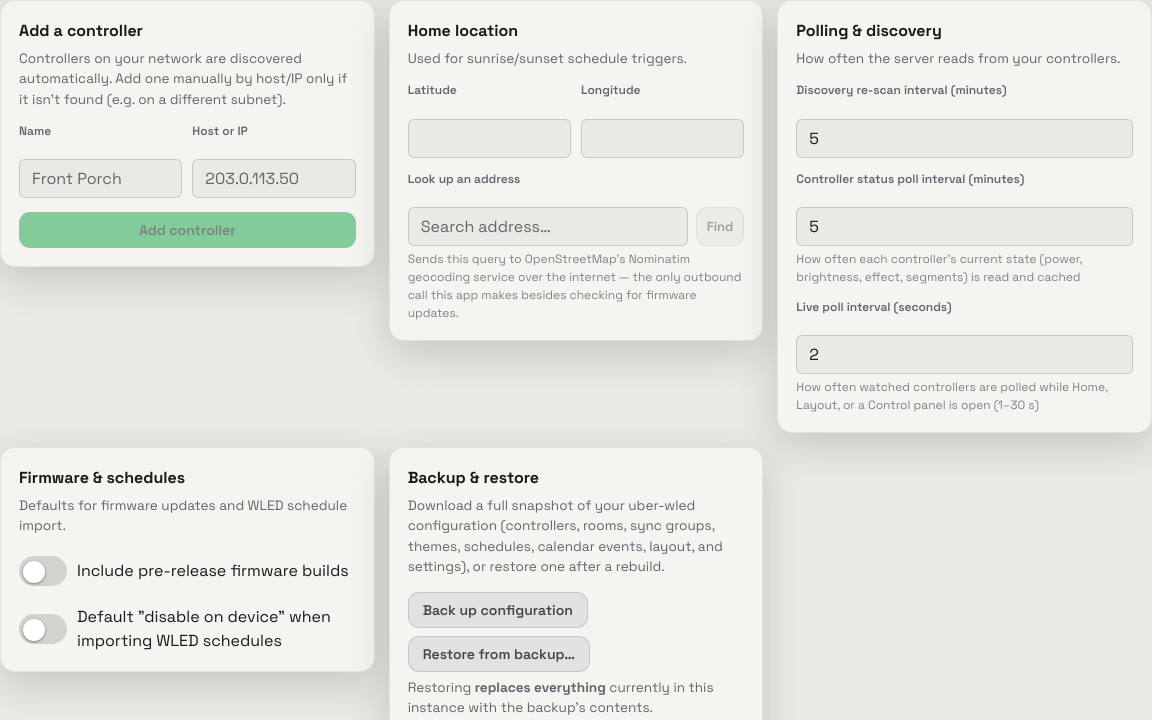
Scenario: SettingsSection v2 › "Look up an address" (server-proxied Nominatim geocoding) › shows a clear message when the geocode request fails
In the field labelled "Look up an address": (548, 226) top-left (408, 207), bottom-right (688, 246), type "1 Main St"
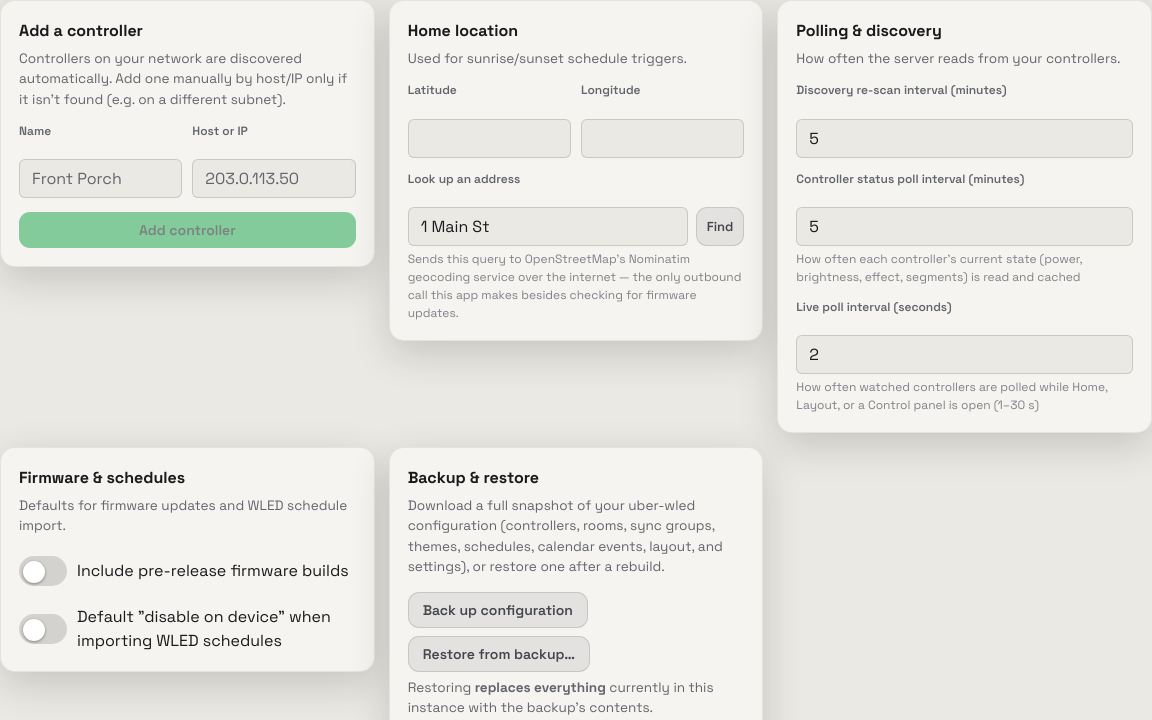
Click the button "Find": (720, 226) top-left (696, 207), bottom-right (744, 246)
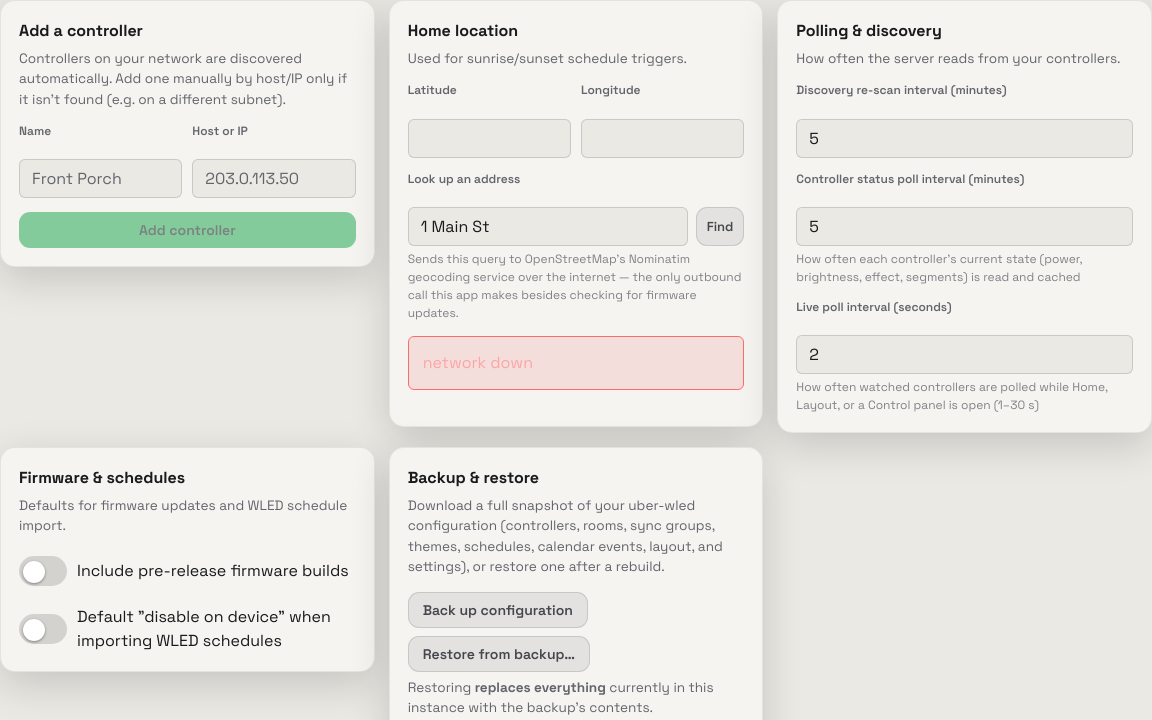
expect the message reads "network down": met, box top-left (423, 352), bottom-right (533, 373)
